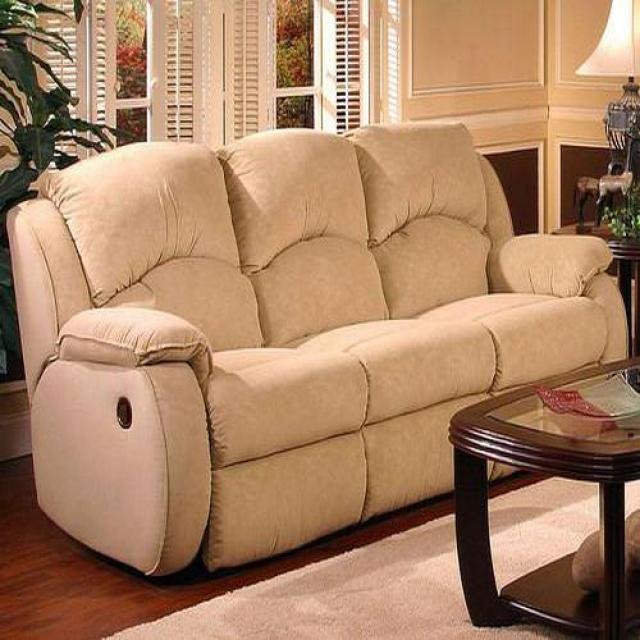sofa: (9, 125, 631, 581)
